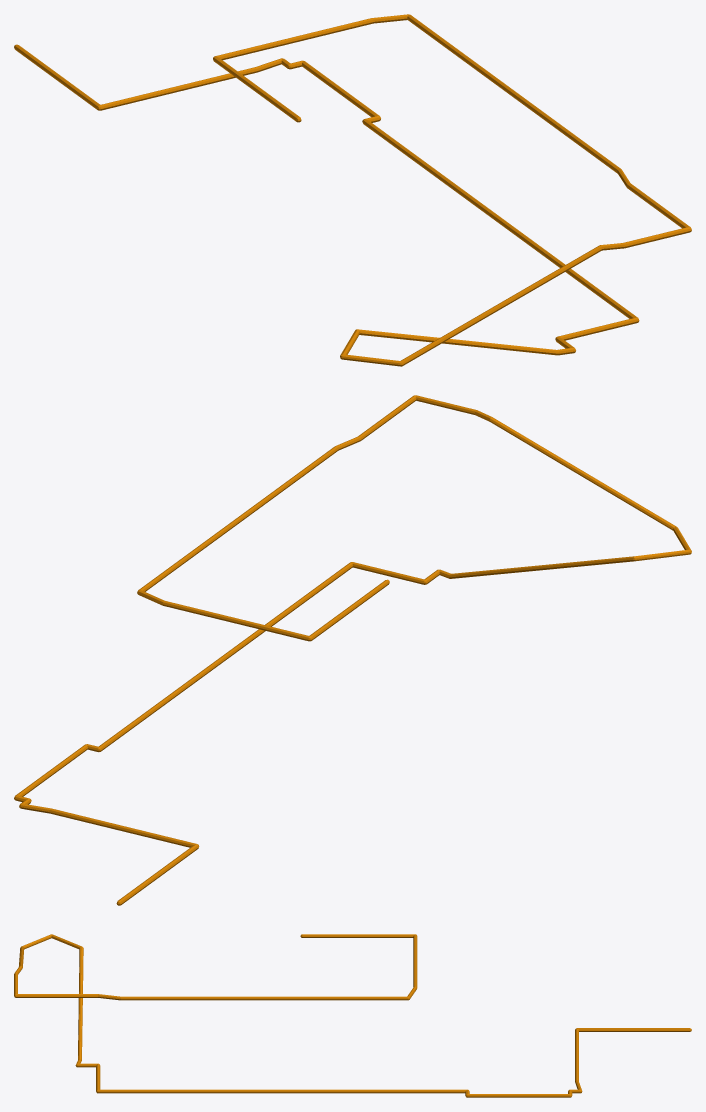
The picture shows the model from 3 angles, top to bottom: view 1: azimuth 30°, elevation 25°; view 2: azimuth 150°, elevation 25°; view 3: azimuth 270°, elevation 25°; orthographic projection. The views are drawn at different scales.
Bounding box in the file's own units: 1326 × 520 × 3304.
